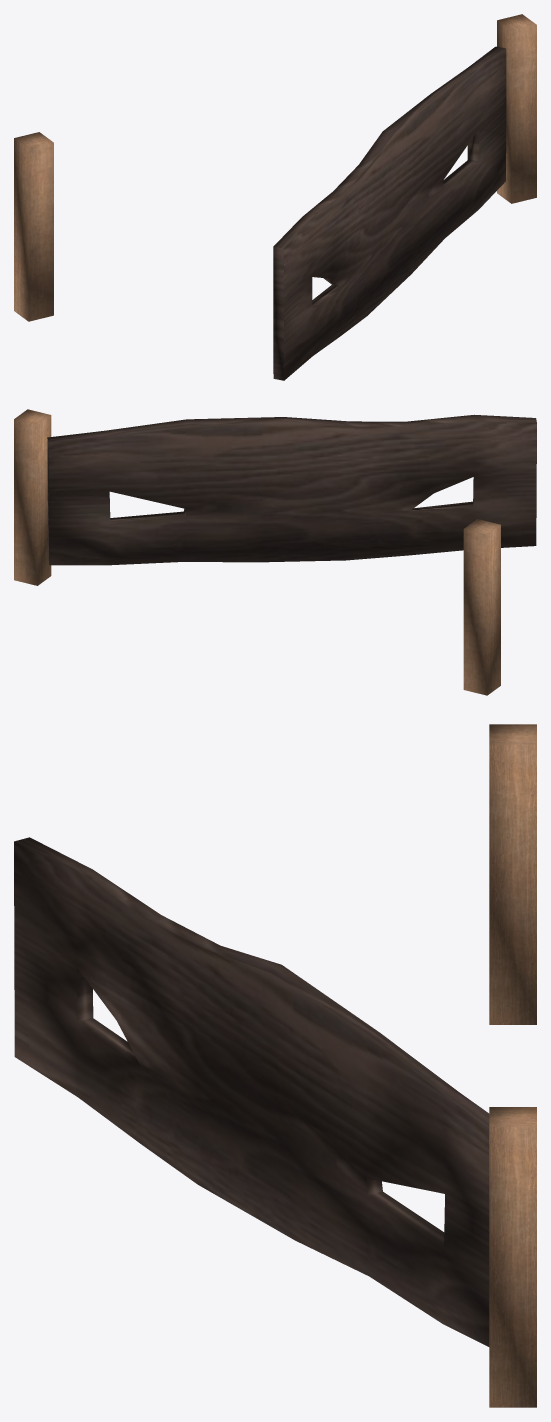
3 renders of one model, top to bottom at view 1: azimuth 30°, elevation 25°; view 2: azimuth 150°, elevation 25°; view 3: azimuth 270°, elevation 25°, orthographic. The views are drawn at different scales.
Parts seen in each view (by area): view 1: Cube184_Wood_10001_0, Cube087_Wood_02001_0; view 2: Cube184_Wood_10001_0, Cube087_Wood_02001_0; view 3: Cube184_Wood_10001_0, Cube087_Wood_02001_0.
Part boxes in pixels (x1=…): Cube184_Wood_10001_0: x1=273, y1=46, x2=506, y2=380; Cube087_Wood_02001_0: x1=14, y1=14, x2=536, y2=321; Cube184_Wood_10001_0: x1=47, y1=414, x2=536, y2=565; Cube087_Wood_02001_0: x1=14, y1=409, x2=500, y2=695; Cube184_Wood_10001_0: x1=14, y1=837, x2=489, y2=1346; Cube087_Wood_02001_0: x1=489, y1=724, x2=536, y2=1407.
Bounding box in the file's own units: 4 × 1.3 × 2.2.
2 materials, 2 textured.
